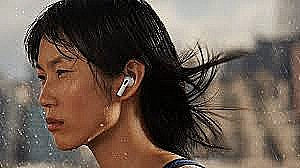earphone: (115, 59, 145, 100)
